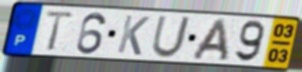6: (75, 11, 108, 56)
9: (233, 20, 267, 63)
A: (189, 17, 230, 63)
K: (114, 14, 151, 58)
T: (43, 9, 77, 52)
U: (149, 15, 193, 60)
